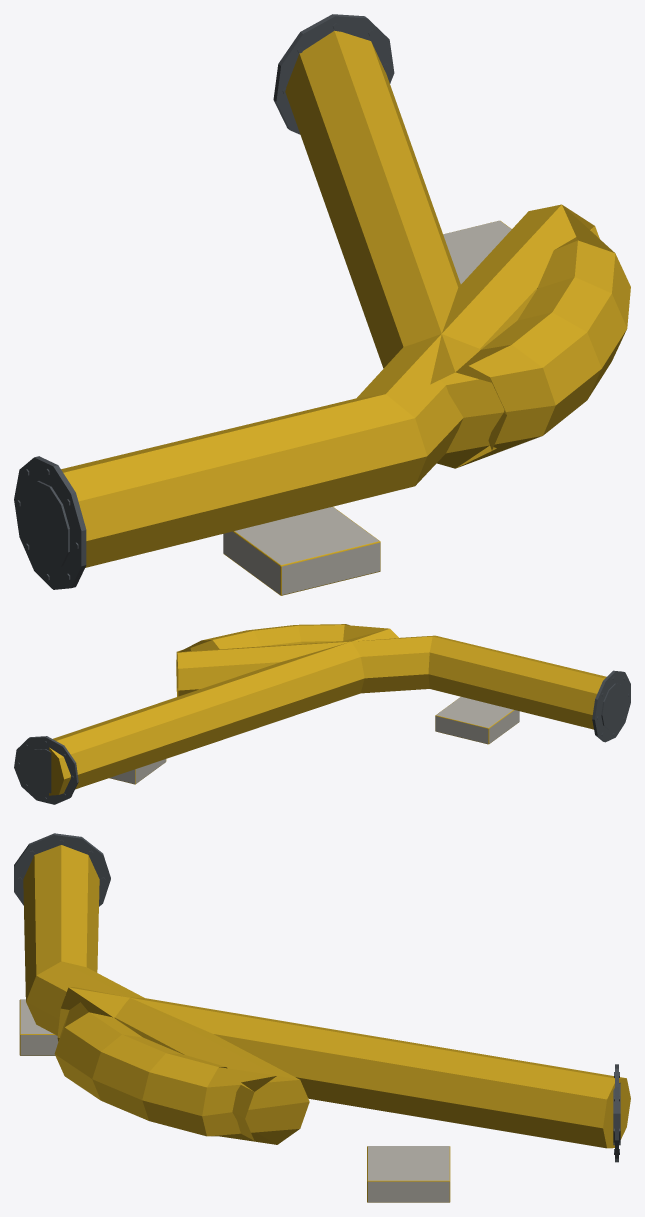
File: gam_pipe_corner.glb
3 renders of one model, top to bottom at view 1: azimuth 30°, elevation 25°; view 2: azimuth 150°, elevation 25°; view 3: azimuth 270°, elevation 25°, orthographic. The views are drawn at different scales.
Visible parts, largest first — view 1: gam_pipe_corner; view 2: gam_pipe_corner; view 3: gam_pipe_corner.
Part boxes in pixels (left/top/right/bottom): gam_pipe_corner: left=14, top=14, right=630, bottom=595; gam_pipe_corner: left=14, top=624, right=630, bottom=804; gam_pipe_corner: left=14, top=833, right=630, bottom=1202.
Size of the model in its own units: 8.76 by 1.86 by 8.89.
